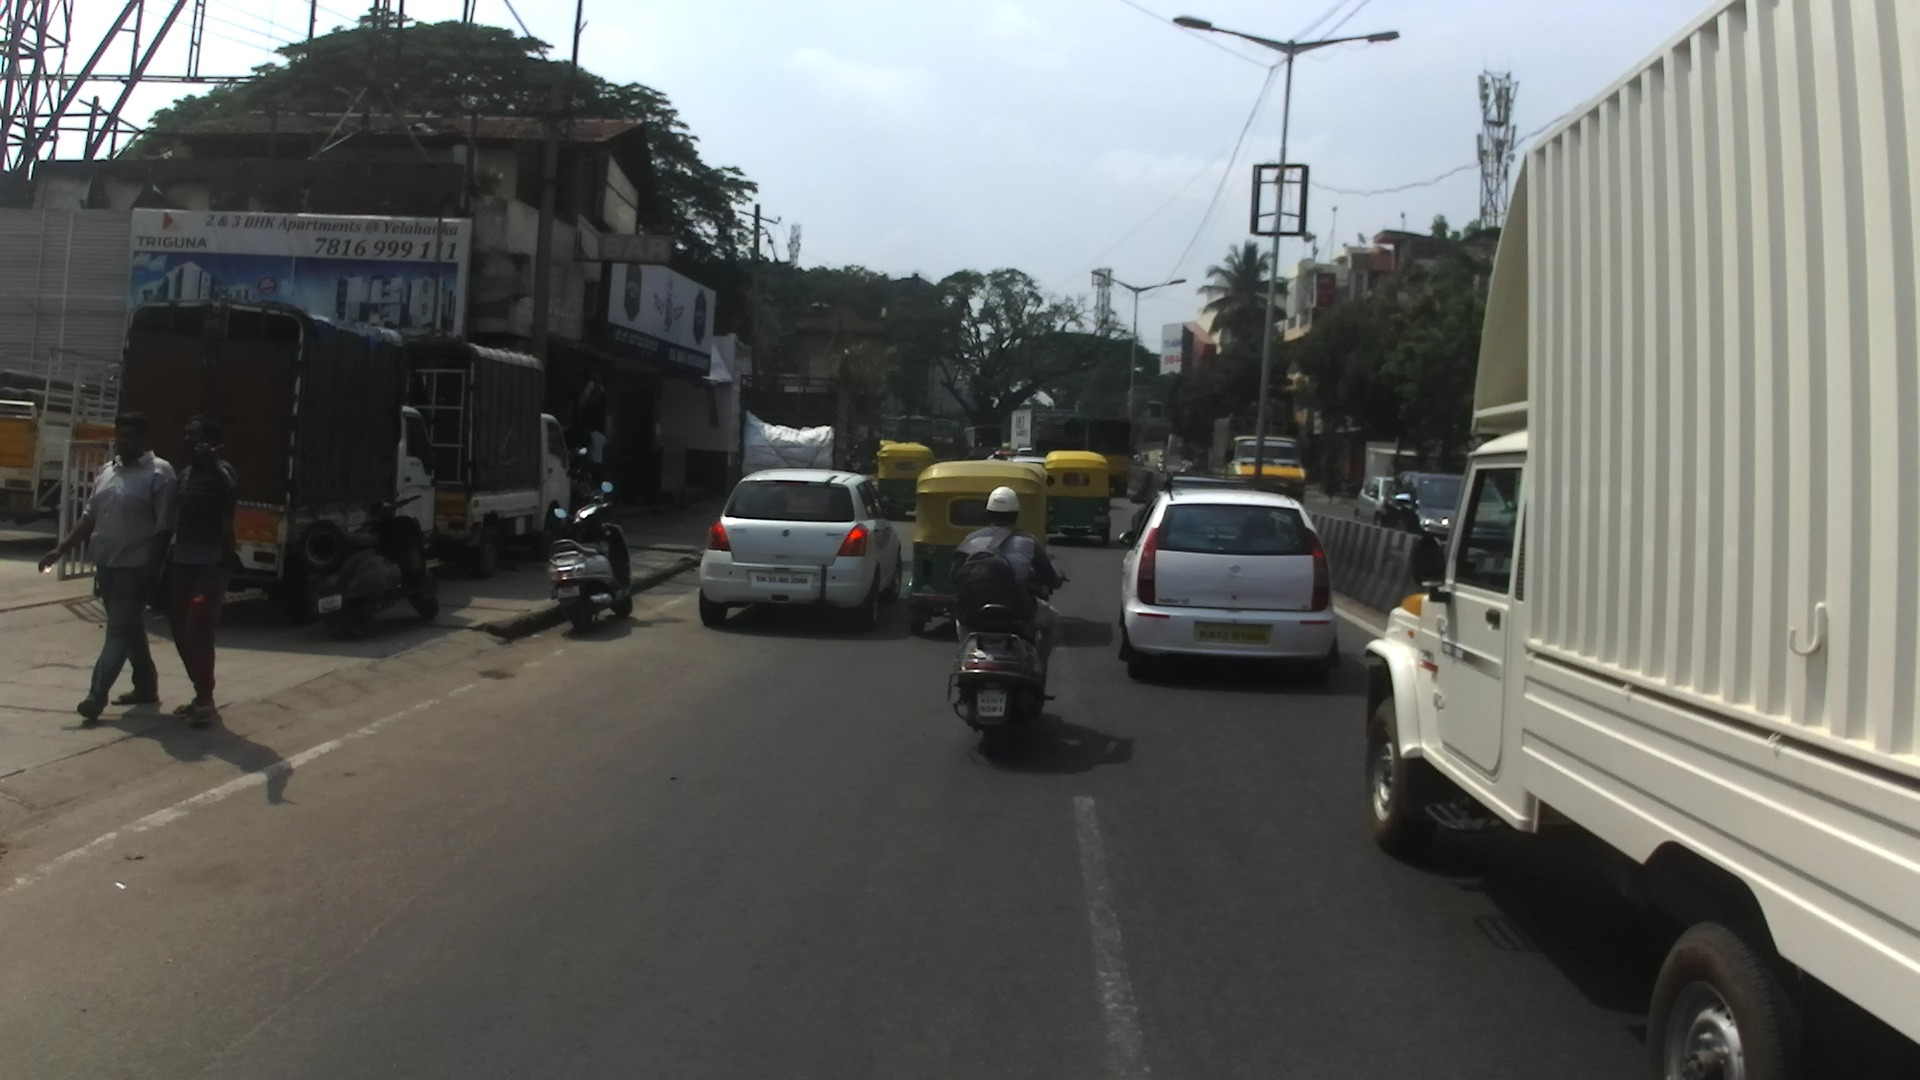autorickshaw: (908, 461, 1056, 644), (1040, 449, 1112, 541), (877, 444, 935, 517), (878, 440, 896, 463)
bus: (882, 414, 931, 456)
car: (1120, 471, 1341, 687), (697, 467, 903, 632), (1382, 470, 1465, 542), (1354, 475, 1400, 533), (1129, 491, 1160, 539), (1004, 456, 1049, 470)
motorcycle: (945, 575, 1069, 757), (302, 489, 441, 638), (546, 478, 634, 634), (844, 444, 862, 475), (1156, 460, 1166, 474), (1180, 463, 1191, 474), (1135, 458, 1143, 468), (1142, 454, 1148, 462)
person: (36, 408, 182, 727), (157, 418, 237, 730), (583, 418, 606, 492), (1319, 458, 1337, 502)
rider: (951, 485, 1057, 684), (1181, 457, 1193, 472), (992, 447, 1006, 457), (991, 450, 1003, 461), (1136, 454, 1144, 467), (1157, 453, 1165, 463), (1142, 448, 1147, 456)
truck: (1359, 1, 1920, 1080), (118, 296, 446, 628), (399, 334, 587, 580), (1, 340, 128, 527), (739, 375, 837, 501), (1034, 414, 1134, 497), (1222, 423, 1308, 508), (963, 424, 1002, 461)
vehicle fallback: (923, 433, 965, 469), (929, 418, 960, 446), (1017, 446, 1034, 456), (1001, 443, 1011, 453), (1132, 452, 1140, 462)
